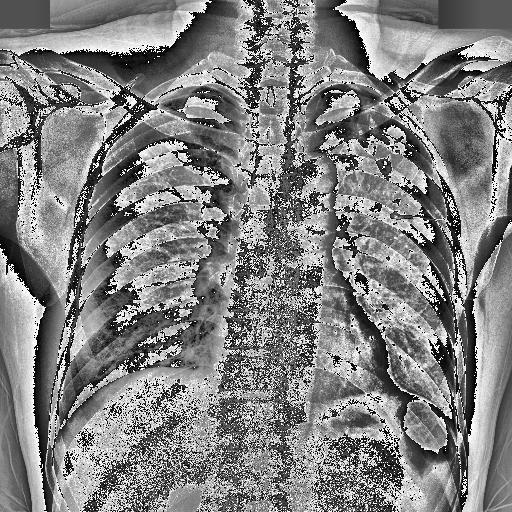0- Aortic enlargement: (278, 152, 340, 210)
11- Pleural thickening: (340, 116, 411, 181), (157, 84, 215, 104), (332, 84, 390, 104)
13- Pulmonary fibrosis: (340, 102, 446, 228), (388, 205, 441, 221), (414, 214, 450, 221)
2- Calcification: (340, 116, 411, 181), (349, 108, 405, 182), (389, 194, 413, 228)
